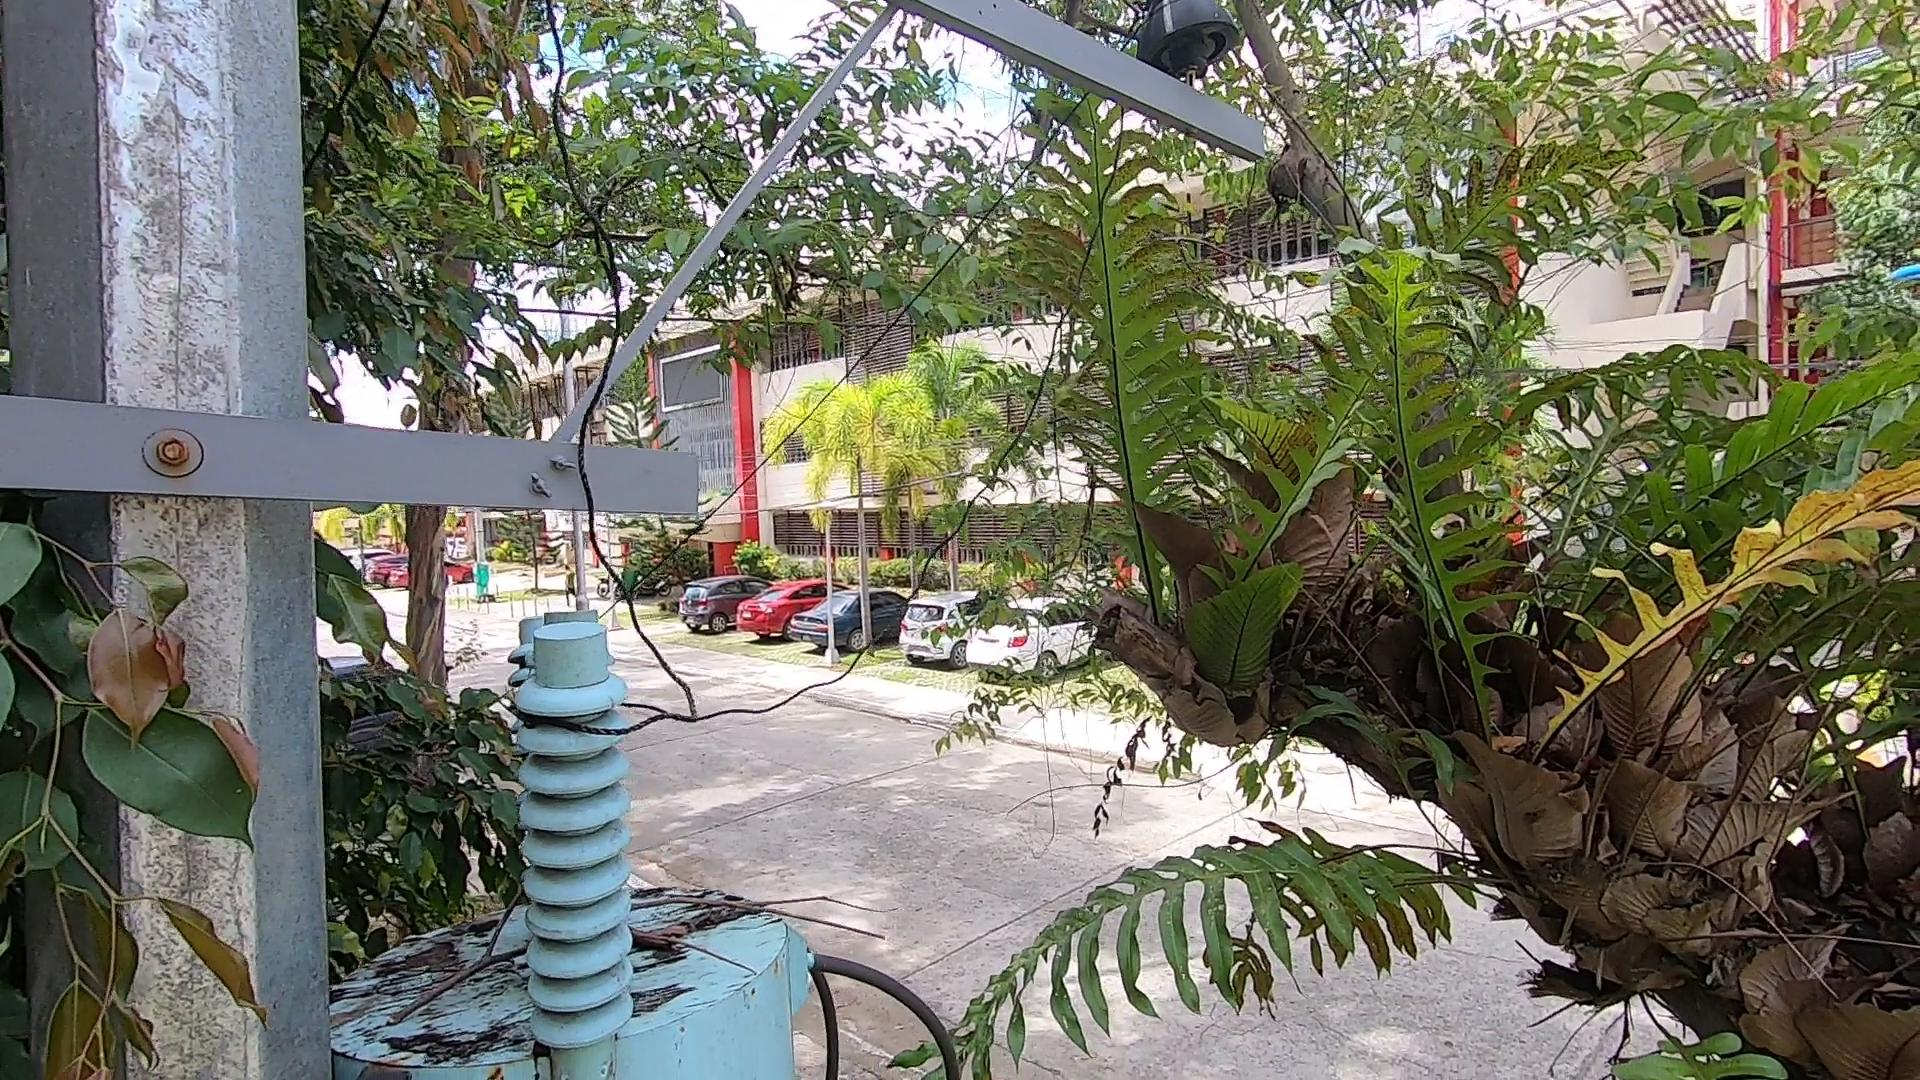branch with leaves: (1, 546, 290, 1071)
leaf: (371, 932, 476, 986), (624, 916, 699, 957)
tree branch: (349, 853, 895, 986)
